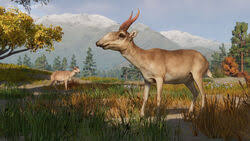saiga: (95, 7, 213, 121)
